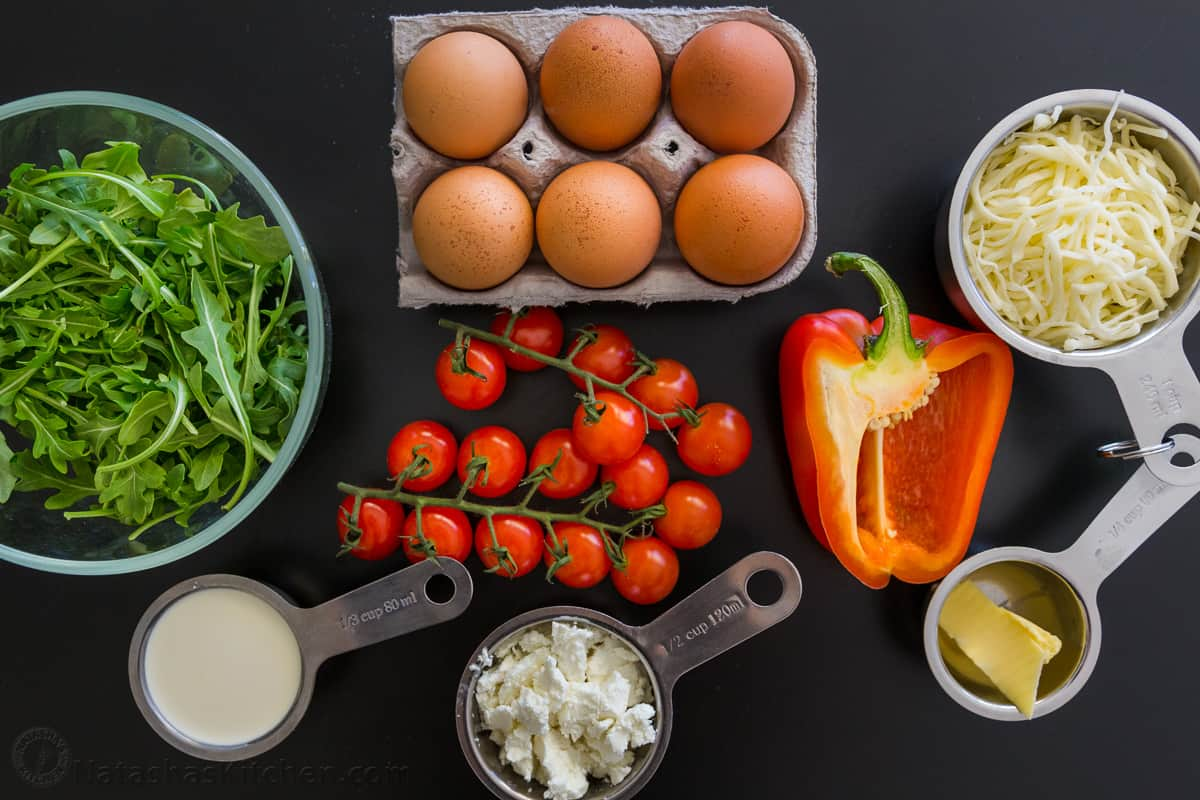Egg: (393, 16, 536, 163), (535, 11, 664, 158), (673, 150, 806, 289), (670, 17, 799, 154), (410, 158, 535, 293), (535, 158, 663, 289)
Tomato: (602, 519, 689, 609), (663, 395, 756, 476), (328, 482, 413, 565), (568, 388, 650, 472), (380, 412, 461, 497), (531, 513, 617, 592), (623, 352, 705, 434), (644, 474, 729, 553), (452, 419, 532, 502), (468, 502, 550, 582), (592, 438, 677, 514), (519, 421, 599, 501), (433, 330, 510, 412), (488, 304, 569, 375), (392, 497, 477, 564), (554, 323, 635, 392)
